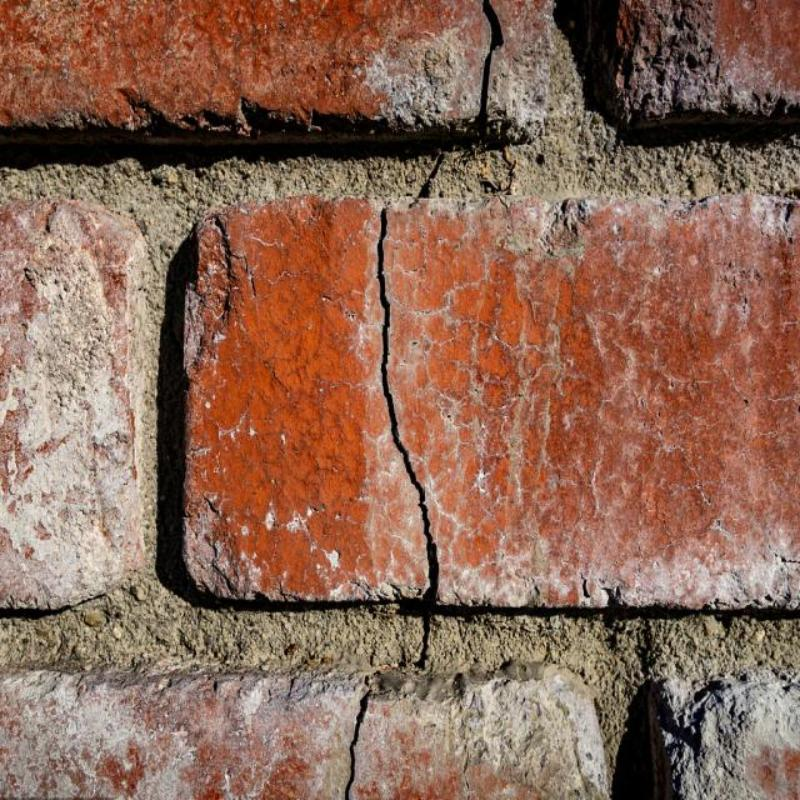crack: (378, 210, 439, 667), (477, 0, 503, 137), (345, 684, 369, 798), (419, 150, 446, 198)
